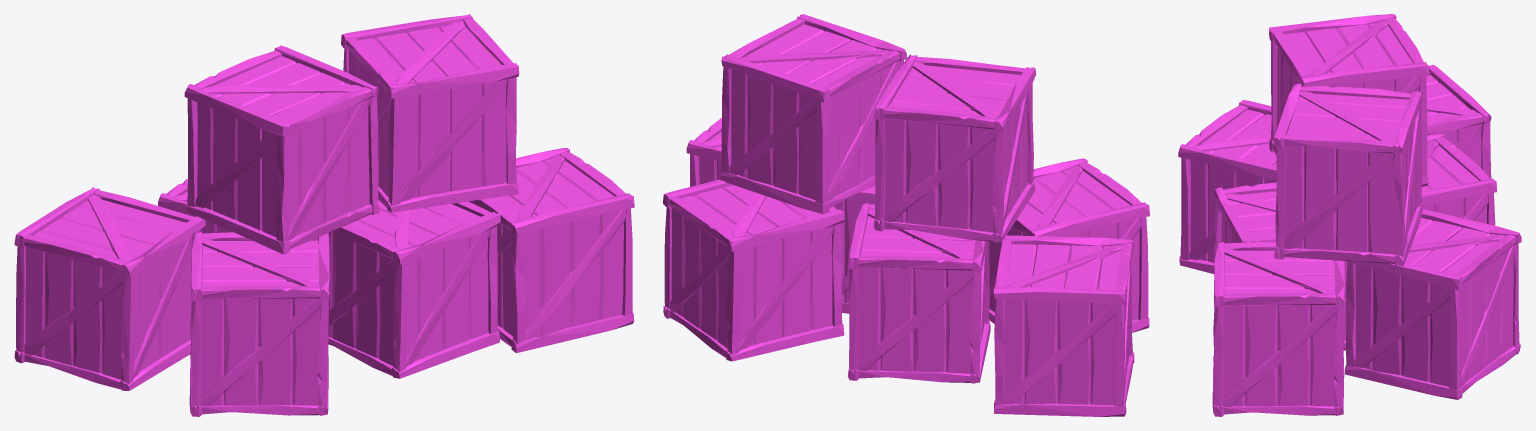
File: SM_Box_Group_Medium_Fantasy.fbx
The picture shows the model from 3 angles, left to right: view 1: azimuth 30°, elevation 25°; view 2: azimuth 150°, elevation 25°; view 3: azimuth 270°, elevation 25°; orthographic projection. The views are drawn at different scales.
Parts seen in each view (by area): view 1: SM_Box_Group_Medium_Fantasy; view 2: SM_Box_Group_Medium_Fantasy; view 3: SM_Box_Group_Medium_Fantasy.
Part boxes in pixels (box(x1,y1,x2,y2)): SM_Box_Group_Medium_Fantasy: box(14, 14, 634, 416); SM_Box_Group_Medium_Fantasy: box(663, 14, 1149, 416); SM_Box_Group_Medium_Fantasy: box(1178, 14, 1521, 416).
Size of the model in its own units: 4.15 by 2.02 by 2.59.
